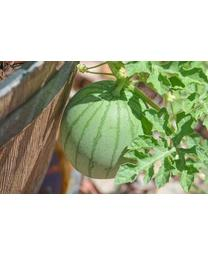watermelon: (60, 79, 151, 180)
